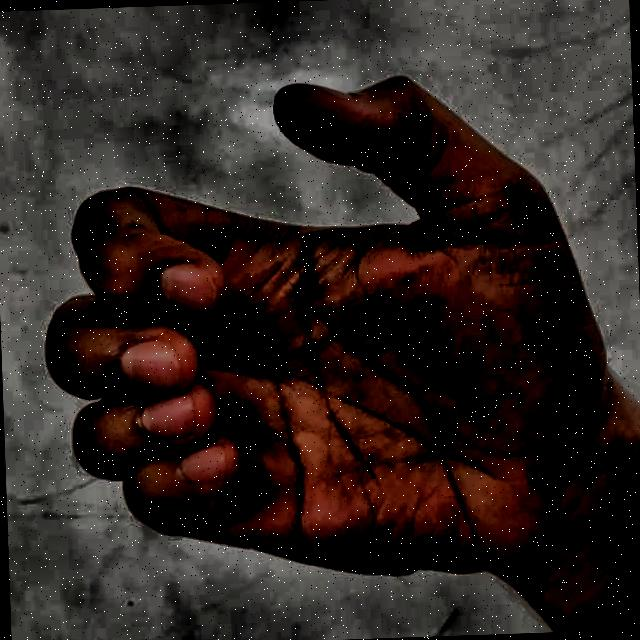Dho: (28, 48, 622, 636)
